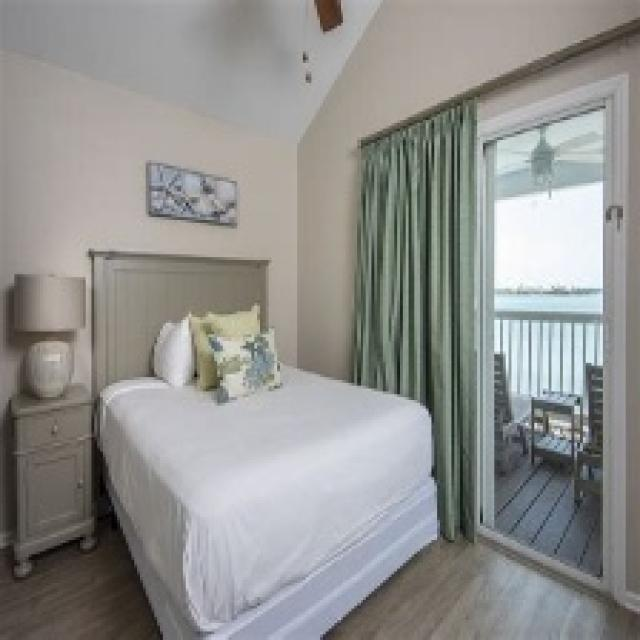Bed: (86, 249, 440, 637)
